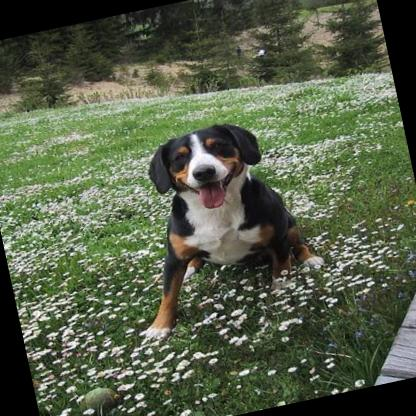EntleBucher: (90, 106, 332, 344)
